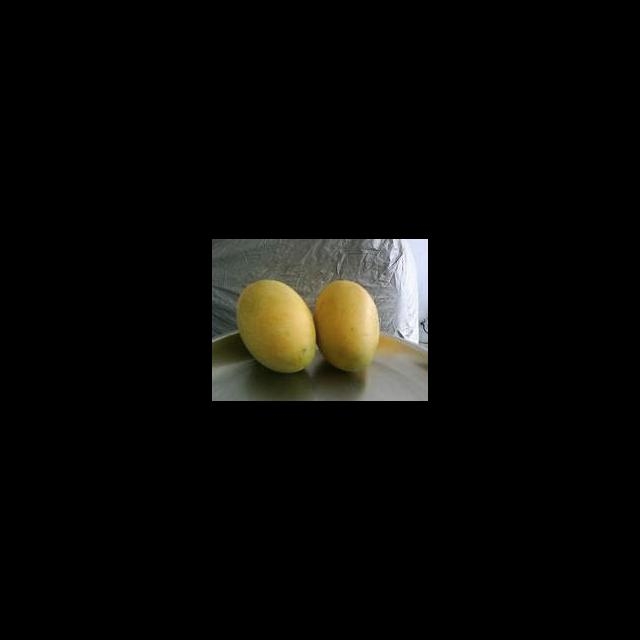mango: (236, 279, 317, 375), (316, 280, 380, 374)
